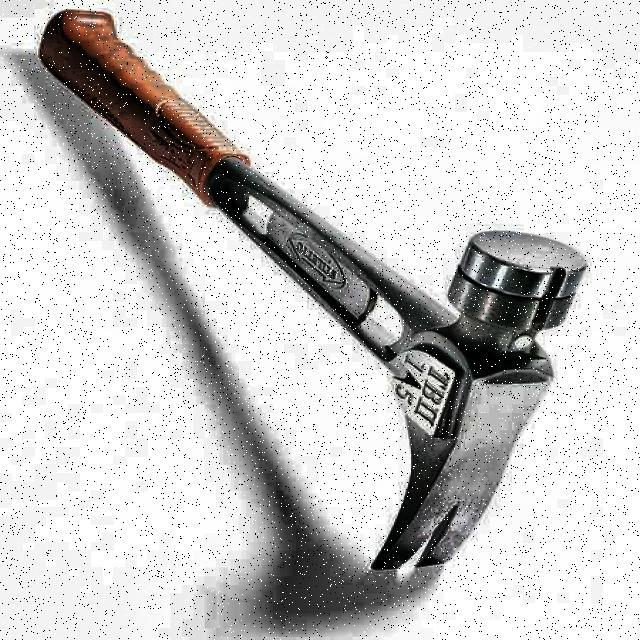hammer: (34, 10, 590, 568)
